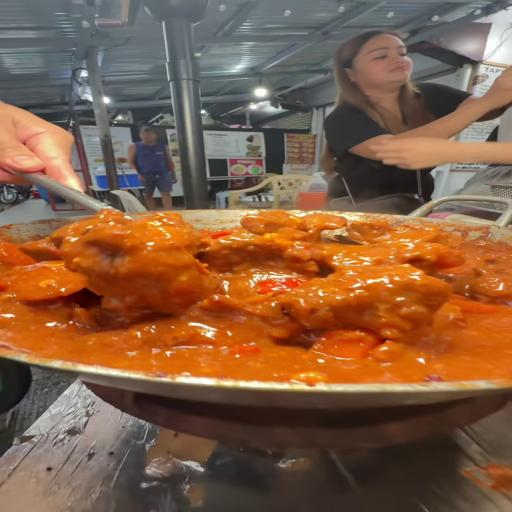pork caldereta: (0, 205, 512, 379)
